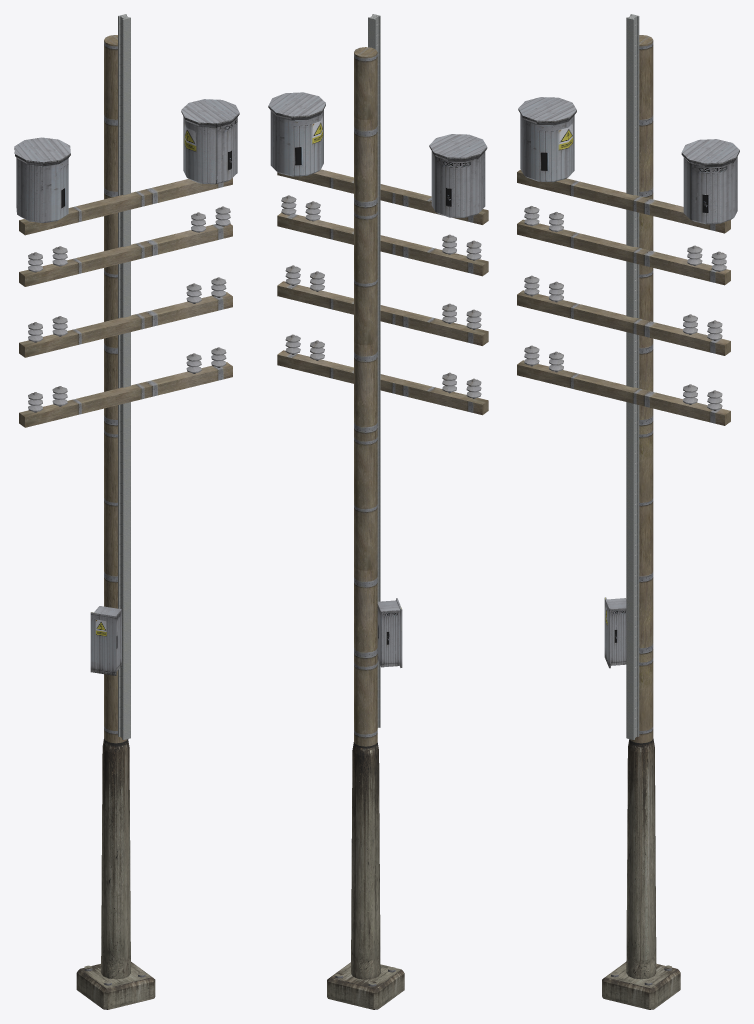
Rendered from CT_Powerpole_02.FBX.
3 renders of one model, left to right at view 1: azimuth 30°, elevation 25°; view 2: azimuth 150°, elevation 25°; view 3: azimuth 330°, elevation 25°, orthographic.
Parts seen in each view (by area): view 1: CT_Powerpole_02; view 2: CT_Powerpole_02; view 3: CT_Powerpole_02.
Part boxes in pixels (x1,y1,x2,y2): CT_Powerpole_02: [14, 14, 239, 1009]; CT_Powerpole_02: [268, 14, 488, 1009]; CT_Powerpole_02: [517, 14, 739, 1009].
Bounding box in the file's own units: 166 × 723 × 55.33.
